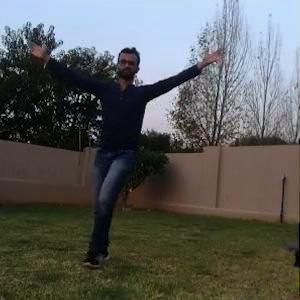takeoff: (28, 44, 222, 261)
